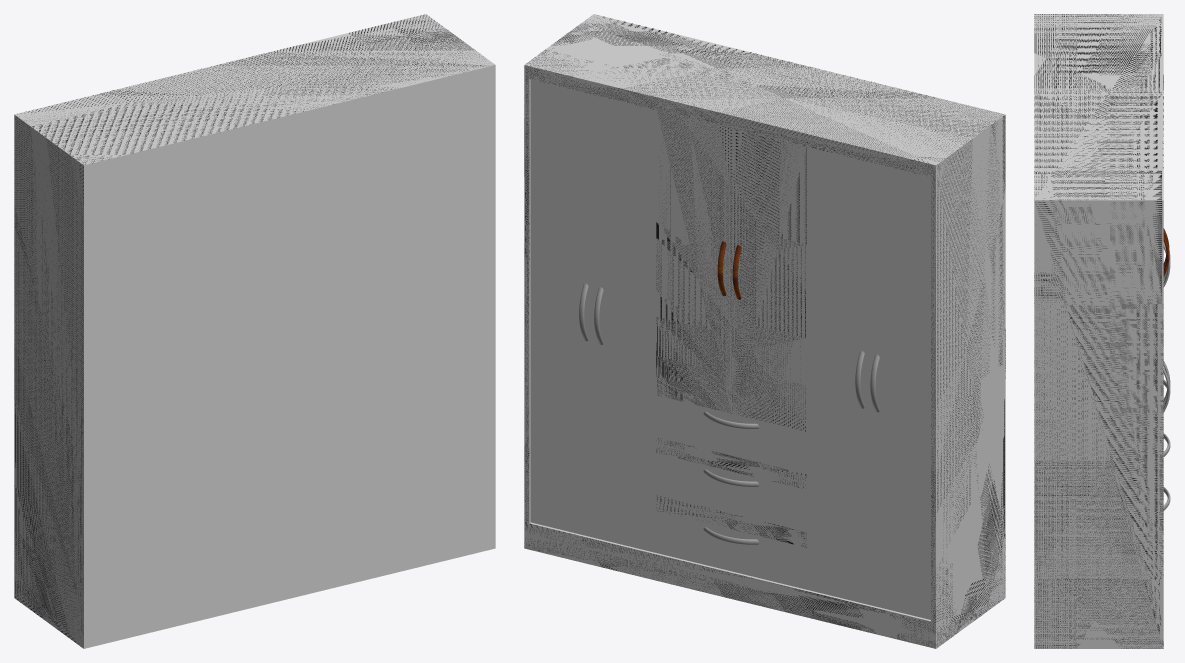
3 views of the same model, side by side, from view 1: azimuth 30°, elevation 25°; view 2: azimuth 150°, elevation 25°; view 3: azimuth 270°, elevation 25° (orthographic). The views are drawn at different scales.
Parts seen in each view (by area): view 1: mesh10_mesh10-geometry; view 2: mesh10_mesh10-geometry; view 3: mesh10_mesh10-geometry.
Part boxes in pixels (x1,y1,x2,y2): mesh10_mesh10-geometry: (14,14,495,648); mesh10_mesh10-geometry: (524,14,1005,648); mesh10_mesh10-geometry: (1034,14,1163,648).
Bounding box in the file's own units: 0.6518 × 0.7313 × 0.201.
